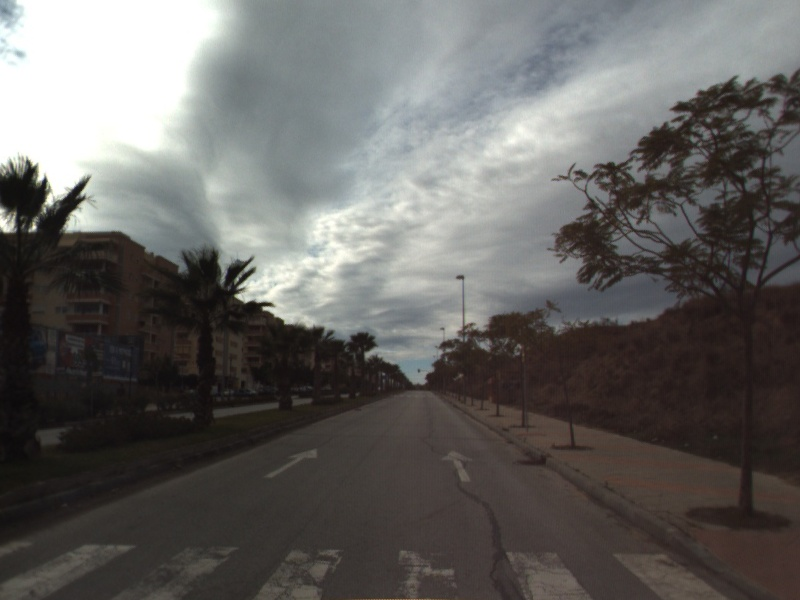STRAIGHT: (262, 446, 320, 480), (439, 448, 475, 484)
